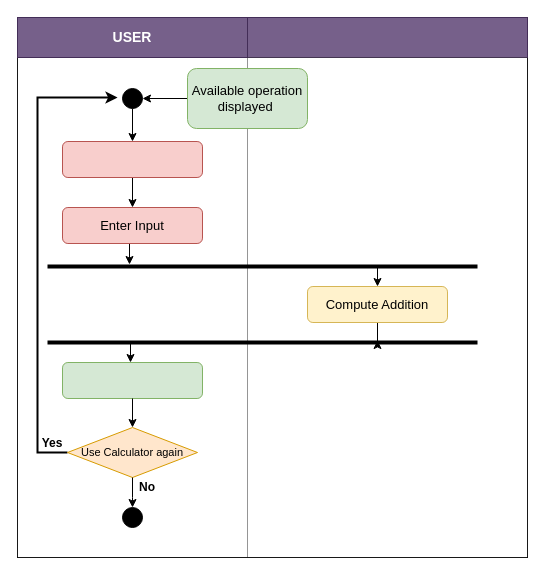
Some shapes in this 545 by 575 pixel diagram are drawn without their labels. The shapes that lost their labels are listed below. From the top down, each one's centre as x and y in pixels, then its label:
At [387,37]: "CALCULATOR".
At [132,159]: "Select the addition as operation".
At [132,380]: "Display Results".
